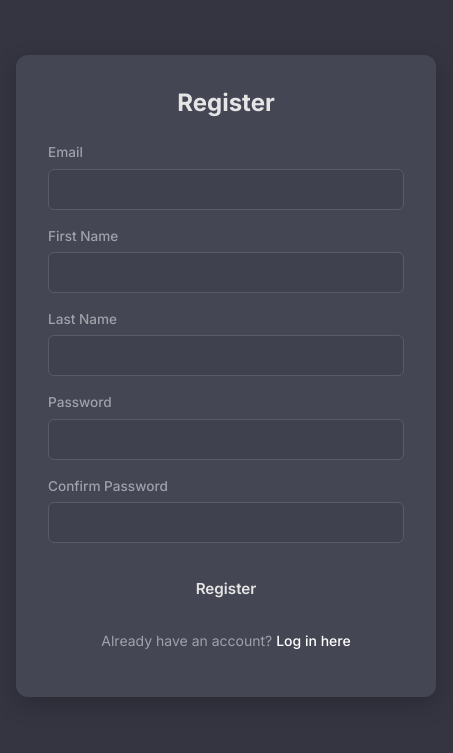
Test: Register page › shows error when password lacks number on submit
This screenshot has width=453, height=753.
Step 1. Type "user@example.com" into the field labelled "Email" → (226, 189), box x1=48 y1=168 x2=404 y2=210
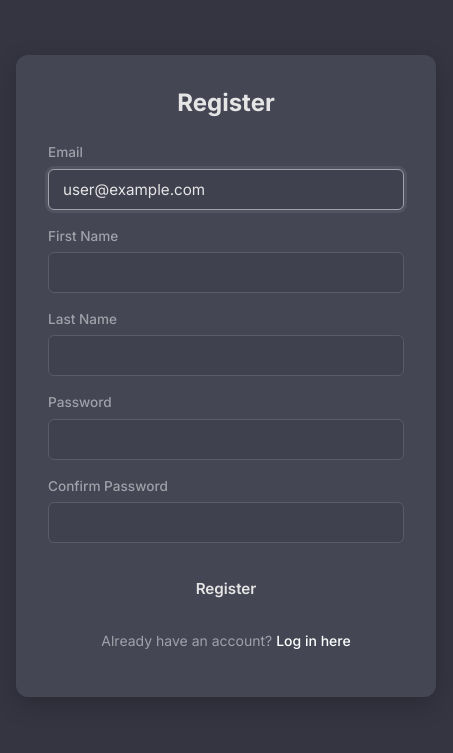
Step 2. Type "John" into the field labelled "First Name" → (226, 272), box x1=48 y1=252 x2=404 y2=293
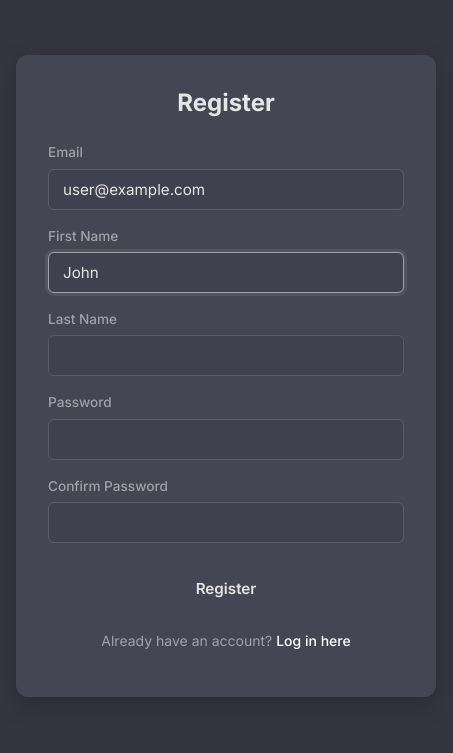
Step 3. Type "Doe" into the field labelled "Last Name" → (226, 356), box x1=48 y1=335 x2=404 y2=376
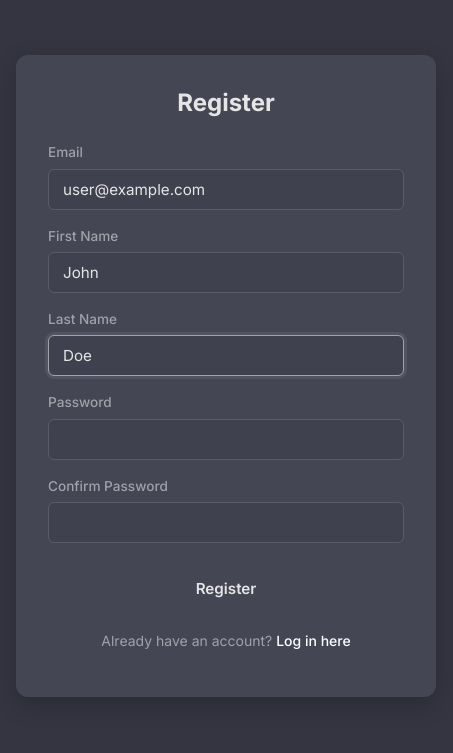
Step 4. Type "Passwordd" into the password field labelled "Password" → (226, 439), box x1=48 y1=419 x2=404 y2=460
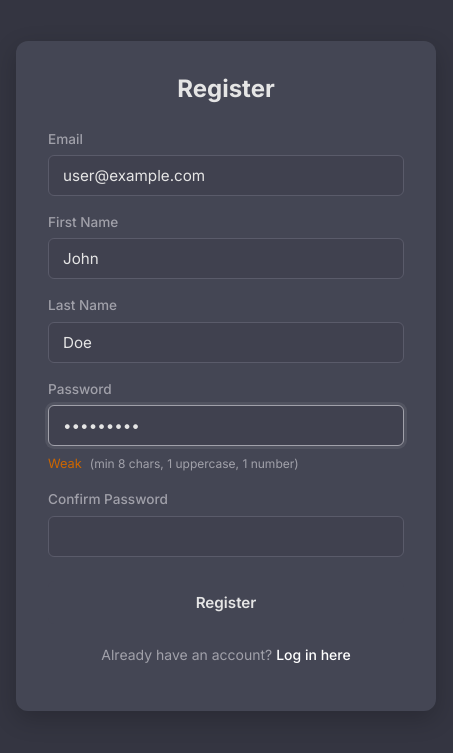
Step 5. Type "Passwordd" into the password field labelled "Confirm Password" → (226, 536), box x1=48 y1=516 x2=404 y2=557
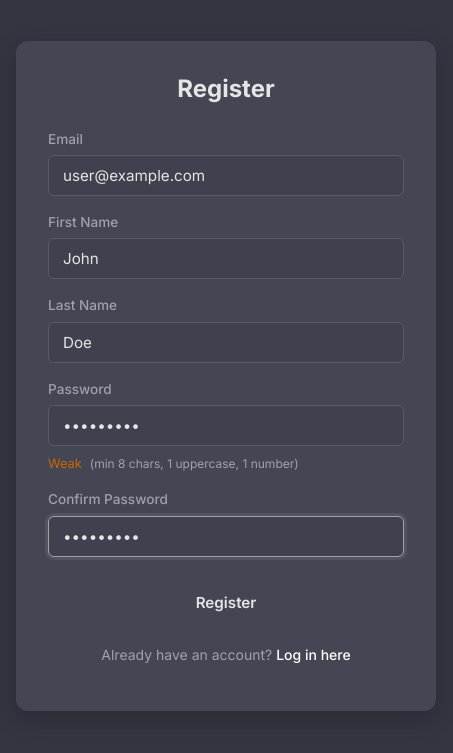
Step 6. Click the button "Register" → (226, 602), box x1=48 y1=581 x2=404 y2=624
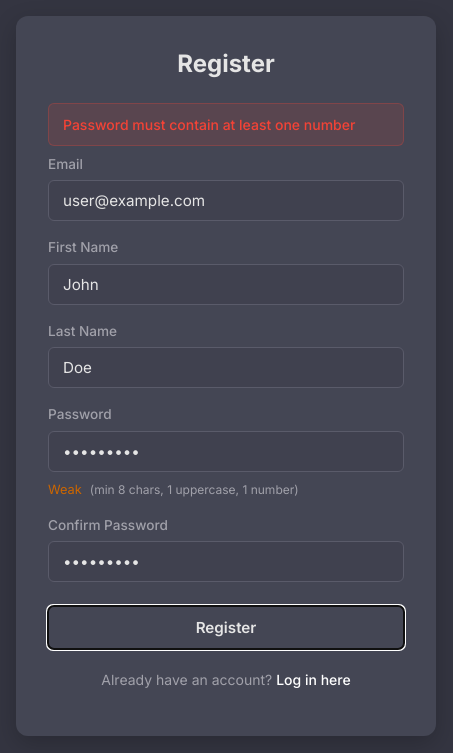
Check: the text "Password must contain at least one number" is shown, box x1=48 y1=103 x2=404 y2=146
